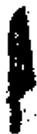Reed: (6, 5, 37, 134)
